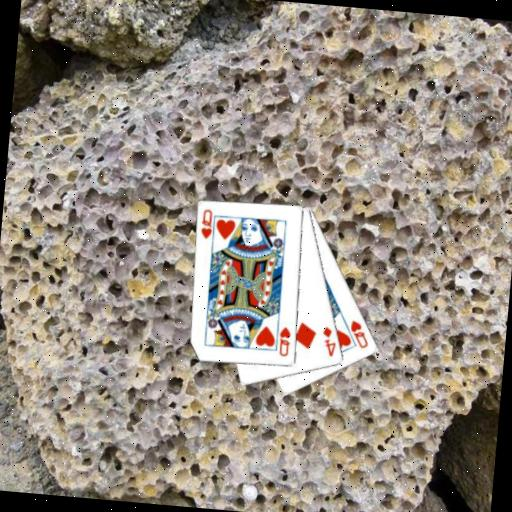4D: (318, 323, 339, 358)
QH: (346, 317, 372, 350), (197, 206, 218, 244), (275, 324, 293, 359)
